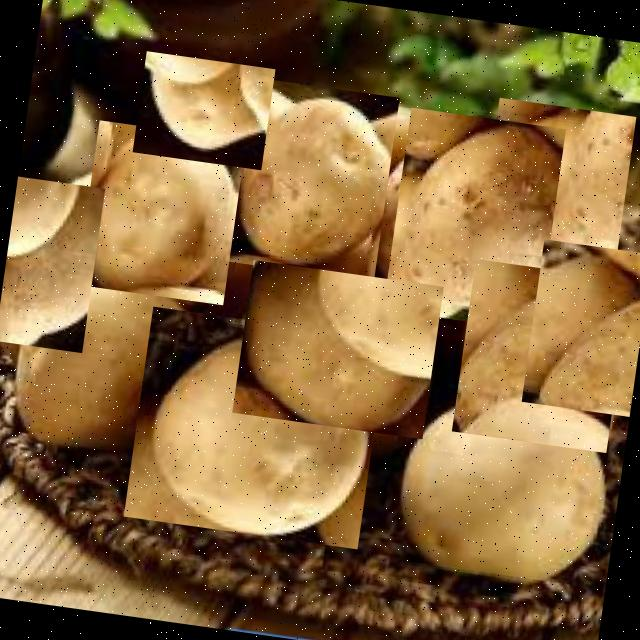Potato: (123, 306, 386, 548), (390, 373, 626, 601), (8, 263, 213, 470), (382, 107, 565, 330), (231, 259, 443, 438), (218, 75, 398, 281), (451, 258, 630, 452), (76, 120, 246, 304), (476, 97, 636, 280), (520, 237, 640, 416), (0, 175, 104, 352), (132, 50, 274, 169)
